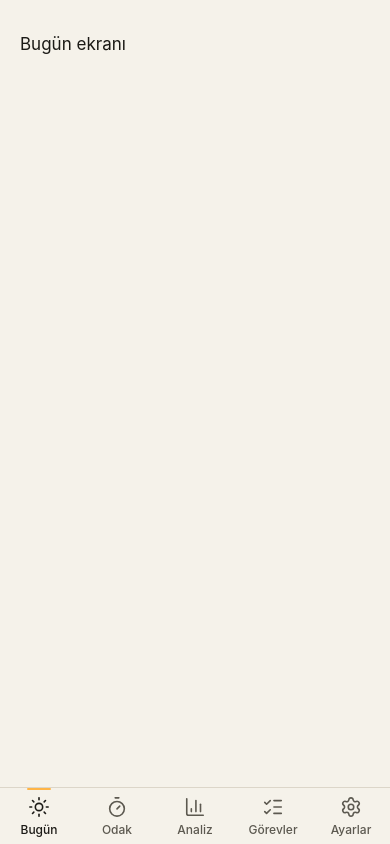
it: AppLayout › navigates when a tab is clicked
Click the link "Odak": (117, 816) [78,788,156,843]
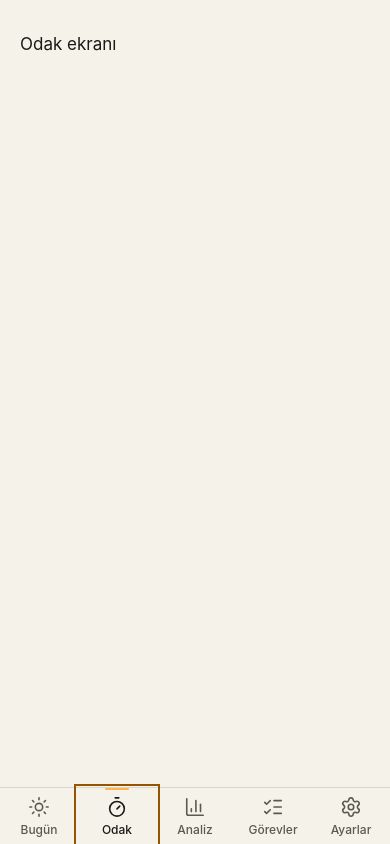
Expected: the heading "Odak ekranı" is shown, [20,34,116,54]
